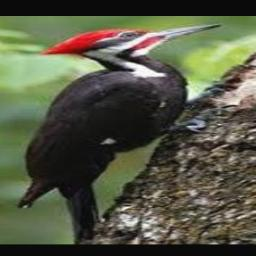Woodpecker: (19, 23, 225, 244)
